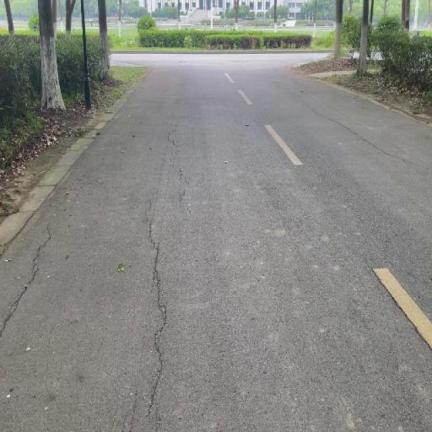Road: (0, 54, 431, 431)
